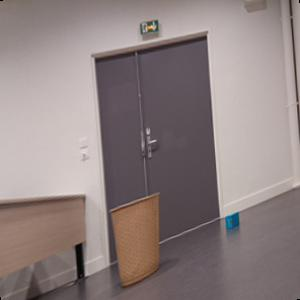medium: (109, 194, 163, 286)
small: (225, 211, 240, 230)
